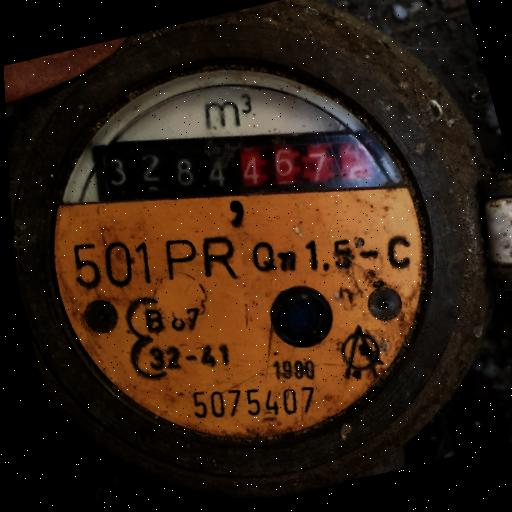2: (127, 144, 178, 197)
3: (96, 147, 140, 198)
4: (331, 134, 380, 186), (193, 142, 240, 194), (230, 140, 276, 193)
6: (261, 138, 308, 190)
7: (298, 138, 341, 189)
8: (163, 144, 207, 195)
border_water_meter_number: (78, 73, 404, 253)
